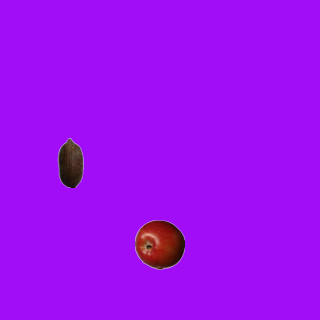Apple Braeburn: (134, 219, 184, 269)
Nut Pecan: (45, 137, 95, 187)
